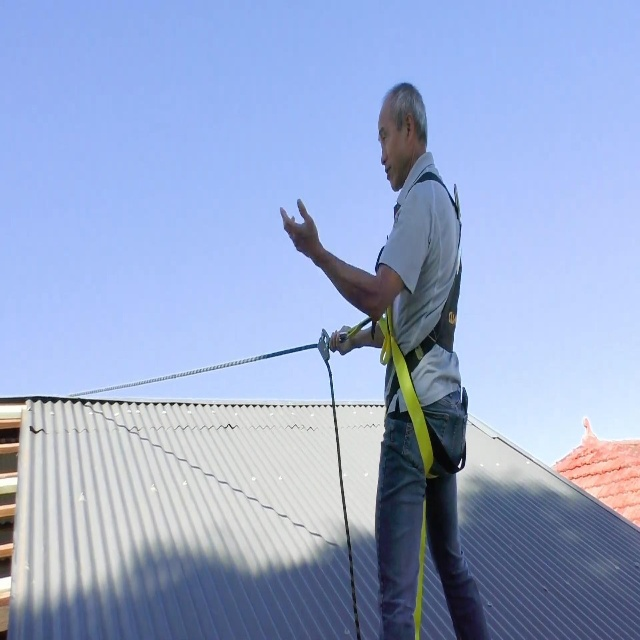Arnes_seguridad: (370, 173, 468, 636)
